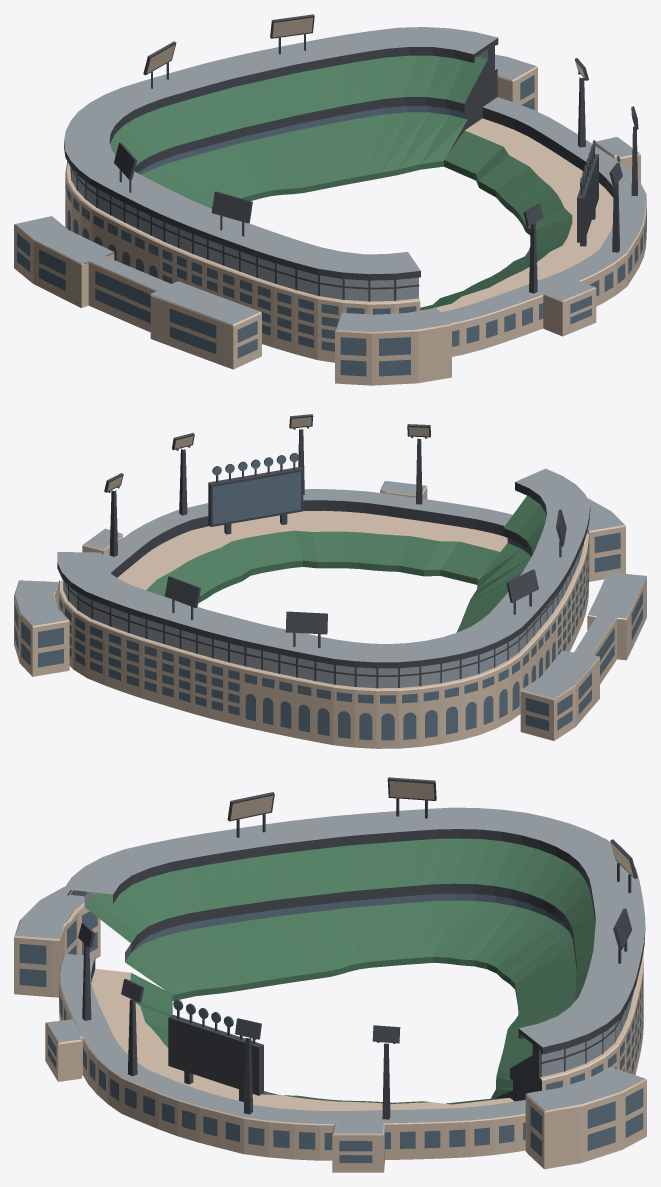
Rendered from detail.glb.
3 renders of one model, top to bottom at view 1: azimuth 30°, elevation 25°; view 2: azimuth 150°, elevation 25°; view 3: azimuth 270°, elevation 25°, orthographic. The views are drawn at different scales.
Parts seen in each view (by area): view 1: rate-field; view 2: rate-field; view 3: rate-field.
Part boxes in pixels (x1,y1,x2,y2): rate-field: (14,14,646,385); rate-field: (14,414,646,748); rate-field: (14,777,646,1172).
Bounding box in the file's own units: 261 × 57.5 × 237.
